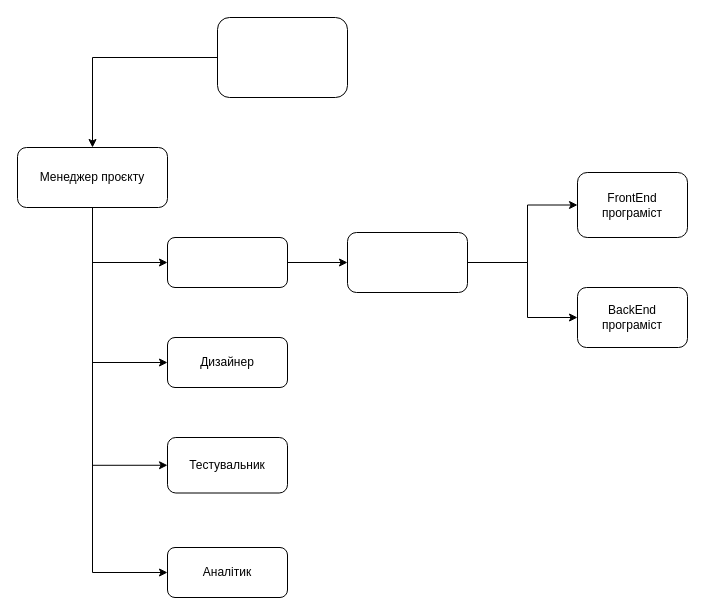
This 705x615 diagram has some shape labels left out. The shapes that lost their labels are listed below. From the top down, each one's centre as x and y in pixels, then its label:
the point at 282,57: Керівник проекту
the point at 227,262: Програміст
the point at 407,262: Team Lead
